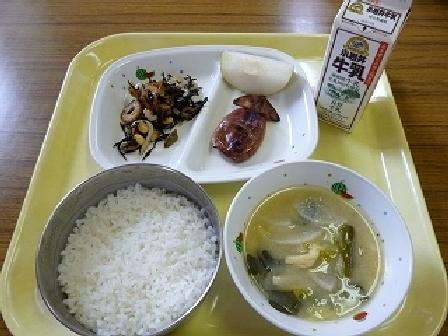Fish: (205, 95, 288, 165)
Milk: (310, 0, 415, 129)
Rice: (35, 160, 222, 335)
Soups: (218, 165, 413, 330)
pear: (215, 42, 299, 97)
salad with sauce: (115, 66, 196, 154)
